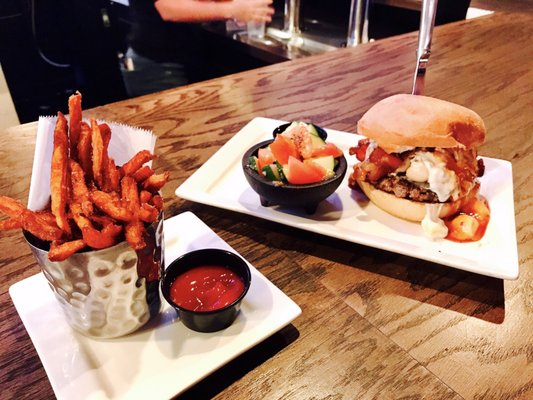soup: (348, 92, 490, 244)
sushi: (242, 121, 348, 212), (160, 247, 252, 333)
